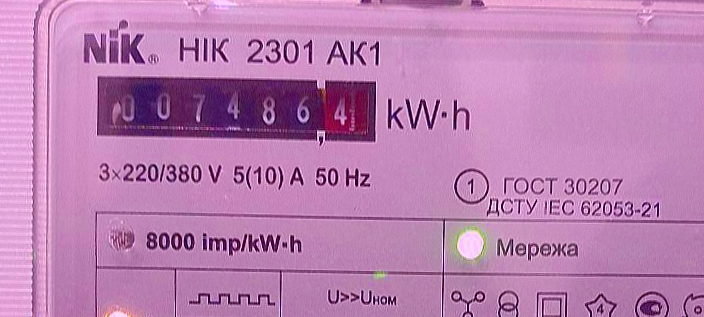0: (117, 89, 138, 124), (154, 88, 173, 121)
4: (223, 86, 242, 122), (331, 93, 349, 127)
6: (294, 92, 314, 125)
7: (186, 90, 210, 123)
8: (260, 93, 278, 128)
screen: (87, 64, 386, 153)
